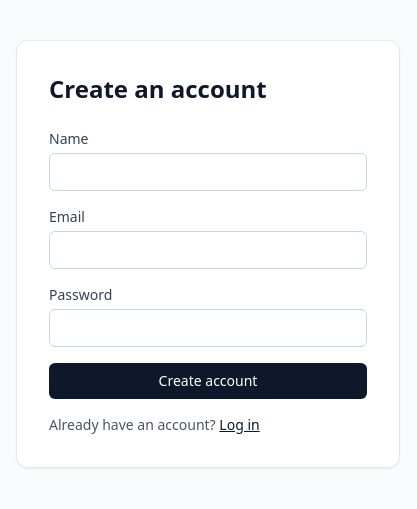
Test case: blocks weak passwords and missing name before registration
This screenshot has width=417, height=509.
In the field labelled "Email": (208, 250) [49,231,367,269], type "test@example.com"
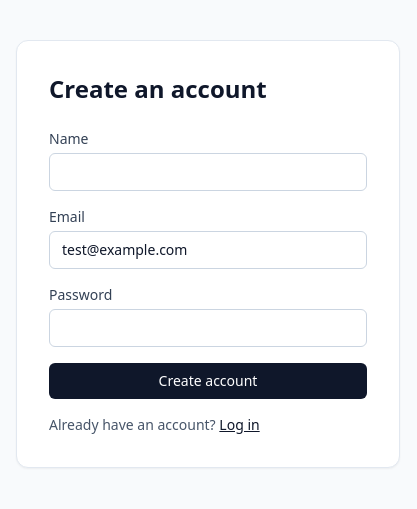
In the password field labelled "Password": (208, 328) [49,309,367,347], type "short"
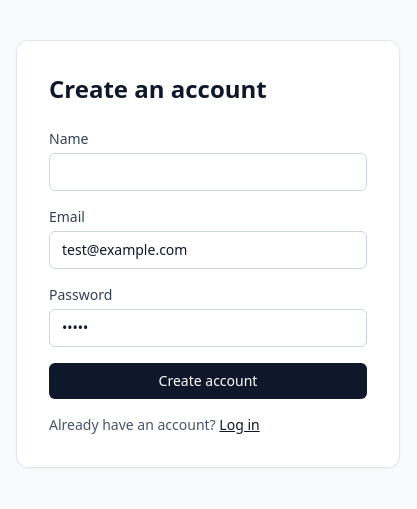
Submit the form "Create account", box [49,129,367,399]
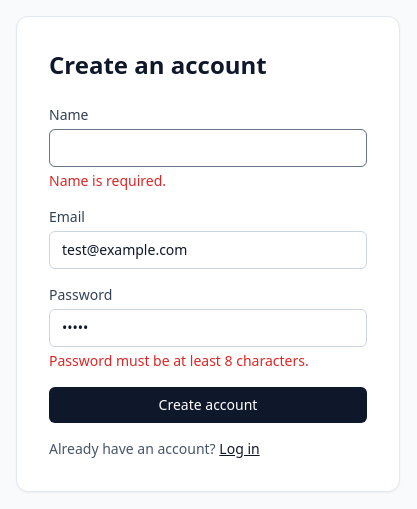
Expected: the text "Password must be at least 8 characters." is shown, [49,351,309,370]
Expected: the text "Name is required." is shown, [49,171,166,190]
